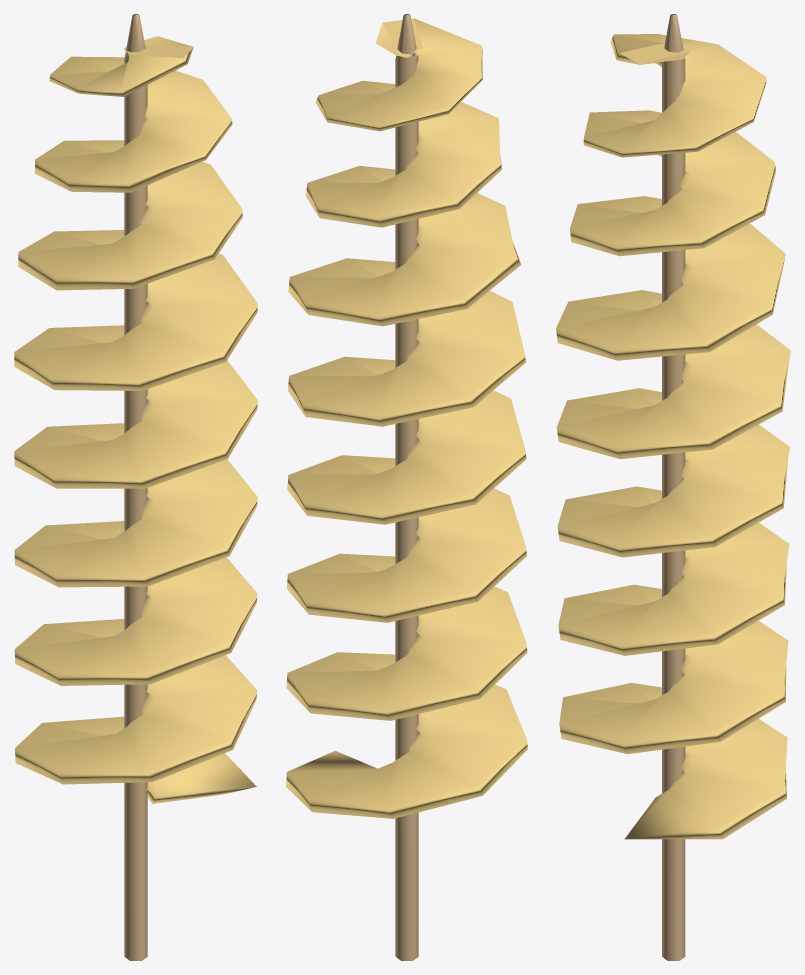
The model's file is Spiral_Potato.fbx.
The picture shows the model from 3 angles, left to right: view 1: azimuth 30°, elevation 25°; view 2: azimuth 150°, elevation 25°; view 3: azimuth 270°, elevation 25°; orthographic projection.
Parts seen in each view (by area): view 1: Cube, Cylinder; view 2: Cube, Cylinder; view 3: Cube, Cylinder.
Part boxes in pixels (bbox=[...]): Cube: bbox=[14, 36, 257, 803]; Cylinder: bbox=[124, 14, 147, 960]; Cube: bbox=[286, 18, 527, 818]; Cylinder: bbox=[395, 14, 418, 960]; Cube: bbox=[556, 34, 790, 839]; Cylinder: bbox=[662, 14, 685, 960].
Size of the model in its own units: 30.24 by 133 by 30.19.
